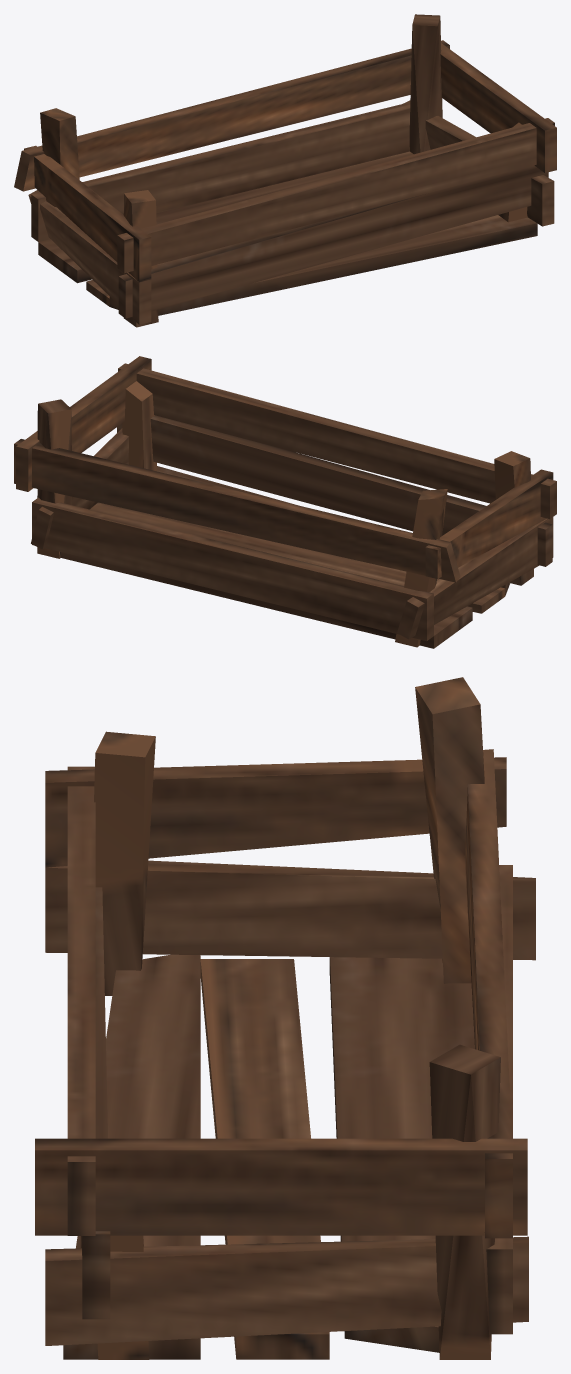
Rendered from crate_001.dae.
The picture shows the model from 3 angles, top to bottom: view 1: azimuth 30°, elevation 25°; view 2: azimuth 150°, elevation 25°; view 3: azimuth 270°, elevation 25°; orthographic projection. The views are drawn at different scales.
Visible parts, largest first — view 1: crate_001; view 2: crate_001; view 3: crate_001.
Part boxes in pixels (x1,y1,x2,y2): crate_001: [14, 14, 556, 327]; crate_001: [14, 356, 556, 648]; crate_001: [35, 677, 535, 1359].
Bounding box in the file's own units: 1.11 × 0.3571 × 0.5511.
1 material, 1 textured.
